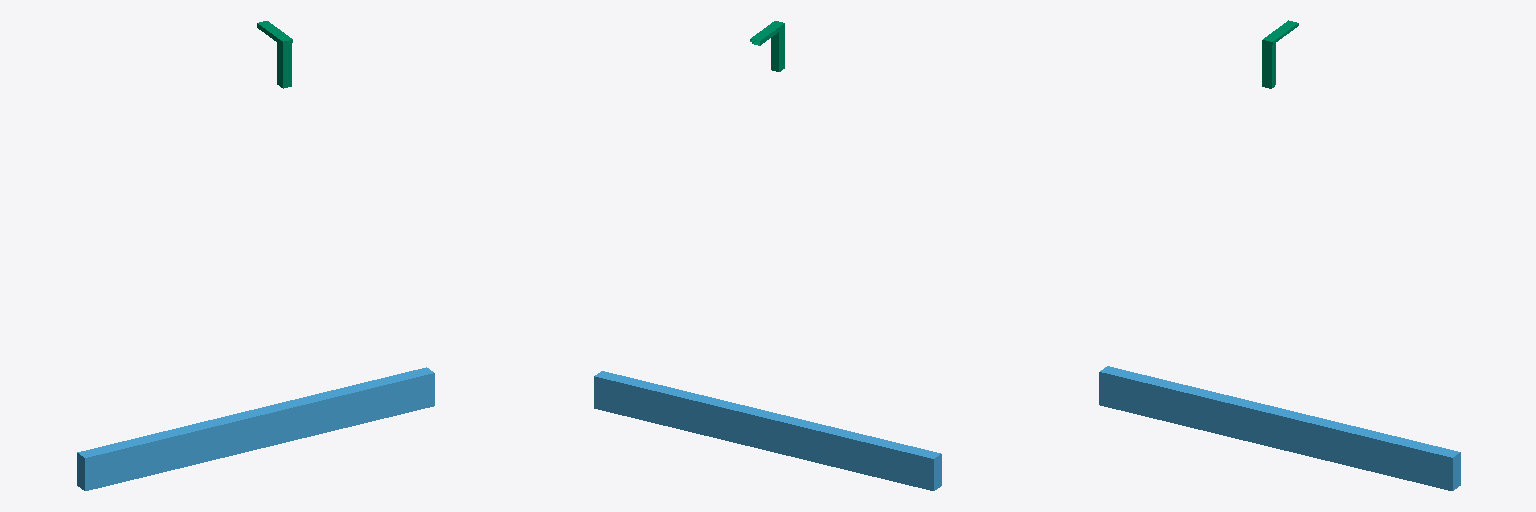
The robot description file, URDF, robot "partnet_11e7166d-8424-4edf-98cf-783b60539214":
<?xml version="1.0" ?>
<robot name="partnet_11e7166d-8424-4edf-98cf-783b60539214">
	<link name="base"/>
	<link name="link_0">
		<visual name="lid-1">
			<origin xyz="0 0 0"/>
			<geometry>
				<mesh filename="textured_objs/original-17.obj" scale="0.2 0.2 0.2"/>
			</geometry>
		</visual>
		<visual name="lid-1">
			<origin xyz="0 0 0"/>
			<geometry>
				<mesh filename="textured_objs/original-10.obj" scale="0.2 0.2 0.2"/>
			</geometry>
		</visual>
		<visual name="lid-1">
			<origin xyz="0 0 0"/>
			<geometry>
				<mesh filename="textured_objs/original-11.obj" scale="0.2 0.2 0.2"/>
			</geometry>
		</visual>
		<visual name="lid-1">
			<origin xyz="0 0 0"/>
			<geometry>
				<mesh filename="textured_objs/original-8.obj" scale="0.2 0.2 0.2"/>
			</geometry>
		</visual>
		<visual name="lid-1">
			<origin xyz="0 0 0"/>
			<geometry>
				<mesh filename="textured_objs/original-1.obj" scale="0.2 0.2 0.2"/>
			</geometry>
		</visual>
		<visual name="lid-1">
			<origin xyz="0 0 0"/>
			<geometry>
				<mesh filename="textured_objs/original-13.obj" scale="0.2 0.2 0.2"/>
			</geometry>
		</visual>
		<visual name="lid-1">
			<origin xyz="0 0 0"/>
			<geometry>
				<mesh filename="textured_objs/original-15.obj" scale="0.2 0.2 0.2"/>
			</geometry>
		</visual>
		<visual name="lid-1">
			<origin xyz="0 0 0"/>
			<geometry>
				<mesh filename="textured_objs/original-14.obj" scale="0.2 0.2 0.2"/>
			</geometry>
		</visual>
		<visual name="lid-1">
			<origin xyz="0 0 0"/>
			<geometry>
				<mesh filename="textured_objs/original-16.obj" scale="0.2 0.2 0.2"/>
			</geometry>
		</visual>
		<collision>
			<origin xyz="0 0 0"/>
			<geometry>
				<mesh filename="textured_objs/original-17.obj" scale="0.2 0.2 0.2"/>
			</geometry>
		</collision>
		<collision>
			<origin xyz="0 0 0"/>
			<geometry>
				<mesh filename="textured_objs/original-10.obj" scale="0.2 0.2 0.2"/>
			</geometry>
		</collision>
		<collision>
			<origin xyz="0 0 0"/>
			<geometry>
				<mesh filename="textured_objs/original-11.obj" scale="0.2 0.2 0.2"/>
			</geometry>
		</collision>
		<collision>
			<origin xyz="0 0 0"/>
			<geometry>
				<mesh filename="textured_objs/original-8.obj" scale="0.2 0.2 0.2"/>
			</geometry>
		</collision>
		<collision>
			<origin xyz="0 0 0"/>
			<geometry>
				<mesh filename="textured_objs/original-1.obj" scale="0.2 0.2 0.2"/>
			</geometry>
		</collision>
		<collision>
			<origin xyz="0 0 0"/>
			<geometry>
				<mesh filename="textured_objs/original-13.obj" scale="0.2 0.2 0.2"/>
			</geometry>
		</collision>
		<collision>
			<origin xyz="0 0 0"/>
			<geometry>
				<mesh filename="textured_objs/original-15.obj" scale="0.2 0.2 0.2"/>
			</geometry>
		</collision>
		<collision>
			<origin xyz="0 0 0"/>
			<geometry>
				<mesh filename="textured_objs/original-14.obj" scale="0.2 0.2 0.2"/>
			</geometry>
		</collision>
		<collision>
			<origin xyz="0 0 0"/>
			<geometry>
				<mesh filename="textured_objs/original-16.obj" scale="0.2 0.2 0.2"/>
			</geometry>
		</collision>
		<inertial>
			<mass value="1"/>
			<inertia ixx="0.4" ixy="0.0" ixz="0.0" iyy="0.4" iyz="0.0" izz="0.2"/>
		</inertial>
	</link>
	<joint name="joint_0" type="fixed">
		<origin xyz="0 0 0"/>
		<axis xyz="0 1 0"/>
		<child link="link_0"/>
		<parent link="link_1"/>
		<limit lower="0" upper="0.06"/>
	</joint>
	<link name="link_1">
		<visual name="base_body-2">
			<origin xyz="0 0 0"/>
			<geometry>
				<mesh filename="textured_objs/original-29.obj" scale="0.2 0.2 0.2"/>
				
			</geometry>
		</visual>
		<visual name="base_body-2">
			<origin xyz="0 0 0"/>
			<geometry>
				<mesh filename="textured_objs/original-21.obj" scale="0.2 0.2 0.2"/>
			</geometry>
		</visual>
		<visual name="base_body-2">
			<origin xyz="0 0 0"/>
			<geometry>
				<mesh filename="textured_objs/original-30.obj" scale="0.2 0.2 0.2"/>
			</geometry>
		</visual>
		<visual name="base_body-2">
			<origin xyz="0 0 0"/>
			<geometry>
				<mesh filename="textured_objs/original-22.obj" scale="0.2 0.2 0.2"/>
			</geometry>
		</visual>
		<visual name="base_body-2">
			<origin xyz="0 0 0"/>
			<geometry>
				<mesh filename="textured_objs/original-26.obj" scale="0.2 0.2 0.2"/>
			</geometry>
		</visual>
		<visual name="base_body-2">
			<origin xyz="0 0 0"/>
			<geometry>
				<mesh filename="textured_objs/original-5.obj" scale="0.2 0.2 0.2"/>
			</geometry>
		</visual>
		<visual name="base_body-2">
			<origin xyz="0 0 0"/>
			<geometry>
				<mesh filename="textured_objs/original-27.obj" scale="0.2 0.2 0.2"/>
			</geometry>
		</visual>
		<visual name="base_body-2">
			<origin xyz="0 0 0"/>
			<geometry>
				<mesh filename="textured_objs/original-6.obj" scale="0.2 0.2 0.2"/>
			</geometry>
		</visual>
		<visual name="base_body-2">
			<origin xyz="0 0 0"/>
			<geometry>
				<mesh filename="textured_objs/original-31.obj" scale="0.2 0.2 0.2"/>
			</geometry>
		</visual>
		<visual name="base_body-2">
			<origin xyz="0 0 0"/>
			<geometry>
				<mesh filename="textured_objs/original-23.obj" scale="0.2 0.2 0.2"/>
			</geometry>
		</visual>
		<visual name="base_body-2">
			<origin xyz="0 0 0"/>
			<geometry>
				<mesh filename="textured_objs/original-25.obj" scale="0.2 0.2 0.2"/>
			</geometry>
		</visual>
		<visual name="base_body-2">
			<origin xyz="0 0 0"/>
			<geometry>
				<mesh filename="textured_objs/original-7.obj" scale="0.2 0.2 0.2"/>
			</geometry>
		</visual>
		<visual name="base_body-2">
			<origin xyz="0 0 0"/>
			<geometry>
				<mesh filename="textured_objs/original-19.obj" scale="0.2 0.2 0.2"/>
			</geometry>
		</visual>
		<collision>
			<origin xyz="0 0 0"/>
			<geometry>
				<mesh filename="textured_objs/original-29.obj" scale="0.2 0.2 0.2"/>
			</geometry>
		</collision>
		<collision>
			<origin xyz="0 0 0"/>
			<geometry>
				<mesh filename="textured_objs/original-21.obj" scale="0.2 0.2 0.2"/>
			</geometry>
		</collision>
		<collision>
			<origin xyz="0 0 0"/>
			<geometry>
				<mesh filename="textured_objs/original-30.obj" scale="0.2 0.2 0.2"/>
			</geometry>
		</collision>
		<collision>
			<origin xyz="0 0 0"/>
			<geometry>
				<mesh filename="textured_objs/original-22.obj" scale="0.2 0.2 0.2"/>
			</geometry>
		</collision>
		<collision>
			<origin xyz="0 0 0"/>
			<geometry>
				<mesh filename="textured_objs/original-26.obj" scale="0.2 0.2 0.2"/>
			</geometry>
		</collision>
		<collision>
			<origin xyz="0 0 0"/>
			<geometry>
				<mesh filename="textured_objs/original-5.obj" scale="0.2 0.2 0.2"/>
			</geometry>
		</collision>
		<collision>
			<origin xyz="0 0 0"/>
			<geometry>
				<mesh filename="textured_objs/original-27.obj" scale="0.2 0.2 0.2"/>
			</geometry>
		</collision>
		<collision>
			<origin xyz="0 0 0"/>
			<geometry>
				<mesh filename="textured_objs/original-6.obj" scale="0.2 0.2 0.2"/>
			</geometry>
		</collision>
		<collision>
			<origin xyz="0 0 0"/>
			<geometry>
				<mesh filename="textured_objs/original-31.obj" scale="0.2 0.2 0.2"/>
			</geometry>
		</collision>
		<collision>
			<origin xyz="0 0 0"/>
			<geometry>
				<mesh filename="textured_objs/original-23.obj" scale="0.2 0.2 0.2"/>
			</geometry>
		</collision>
		<collision>
			<origin xyz="0 0 0"/>
			<geometry>
				<mesh filename="textured_objs/original-25.obj" scale="0.2 0.2 0.2"/>
			</geometry>
		</collision>
		<collision>
			<origin xyz="0 0 0"/>
			<geometry>
				<mesh filename="textured_objs/original-7.obj" scale="0.2 0.2 0.2"/>
			</geometry>
		</collision>
		<collision>
			<origin xyz="0 0 0"/>
			<geometry>
				<mesh filename="textured_objs/original-19.obj" scale="0.2 0.2 0.2"/>
			</geometry>
		</collision>
		<inertial>
			<mass value="3"/>
			<inertia ixx="0.4" ixy="0.0" ixz="0.0" iyy="0.4" iyz="0.0" izz="0.2"/>
		</inertial>
	</link>
	<joint name="joint_1" type="fixed">
		<origin rpy="1.570796326794897 0 -1.570796326794897" xyz="0 0 0"/>
		<child link="link_1"/>
		<parent link="base"/>
	</joint>
</robot>

--- Render facts (derived) ---
The picture shows the robot from 3 angles, left to right: view 1: azimuth 30°, elevation 25°; view 2: azimuth 150°, elevation 25°; view 3: azimuth 330°, elevation 25°; orthographic projection.
Model partnet_11e7166d-8424-4edf-98cf-783b60539214 with 3 links and 2 joints (2 fixed), rooted at base, posed all joints at 0.
Links seen in each view (by area): view 1: link_0, link_1; view 2: link_0, link_1; view 3: link_0, link_1.
Link boxes in pixels (x1,y1,x2,y2): link_0: (77, 367, 434, 490); link_1: (257, 21, 292, 88); link_0: (594, 371, 941, 490); link_1: (750, 21, 784, 71); link_0: (1099, 366, 1460, 490); link_1: (1262, 20, 1298, 88).
Bounding box of the posed robot: 0.1988 × 0.0258 × 0.2279 m (x, y, z).
Meshes: 22 distinct files referenced, 2 mesh visuals loaded (2 OBJ); not drawn: 20 (reference not matched to a file when rendering).